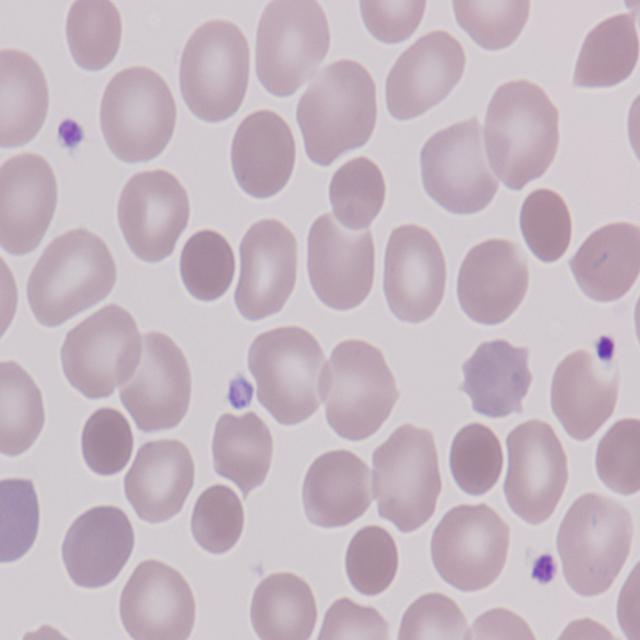Platelets: (57, 112, 88, 152)
RBC: (478, 76, 562, 192), (297, 56, 383, 166), (551, 492, 635, 602), (172, 13, 252, 128), (22, 228, 114, 326), (316, 337, 400, 444), (94, 61, 178, 166), (370, 422, 448, 534), (418, 113, 502, 217), (245, 323, 328, 426), (248, 0, 330, 103), (59, 304, 144, 402), (379, 27, 466, 122), (115, 161, 194, 265), (428, 499, 514, 594), (500, 418, 570, 528), (375, 224, 448, 329), (116, 333, 192, 432), (452, 236, 530, 331), (121, 434, 197, 530), (231, 218, 302, 320), (61, 503, 138, 595), (0, 150, 62, 260), (115, 558, 196, 640), (547, 347, 618, 439), (300, 444, 374, 532), (205, 412, 278, 496), (464, 338, 534, 425), (570, 218, 640, 305), (0, 48, 56, 155), (247, 568, 318, 640), (0, 359, 49, 459), (0, 475, 50, 570), (63, 0, 125, 74), (448, 0, 533, 53), (308, 593, 394, 640), (390, 590, 470, 640), (593, 418, 640, 500), (351, 0, 426, 51), (460, 603, 542, 640), (615, 546, 640, 640), (0, 246, 19, 354), (547, 616, 625, 640)
Spherocyte: (226, 106, 298, 202), (322, 154, 387, 238), (445, 418, 507, 502), (186, 480, 247, 560), (342, 519, 402, 600), (518, 185, 576, 265), (177, 226, 238, 302), (78, 406, 135, 478)
